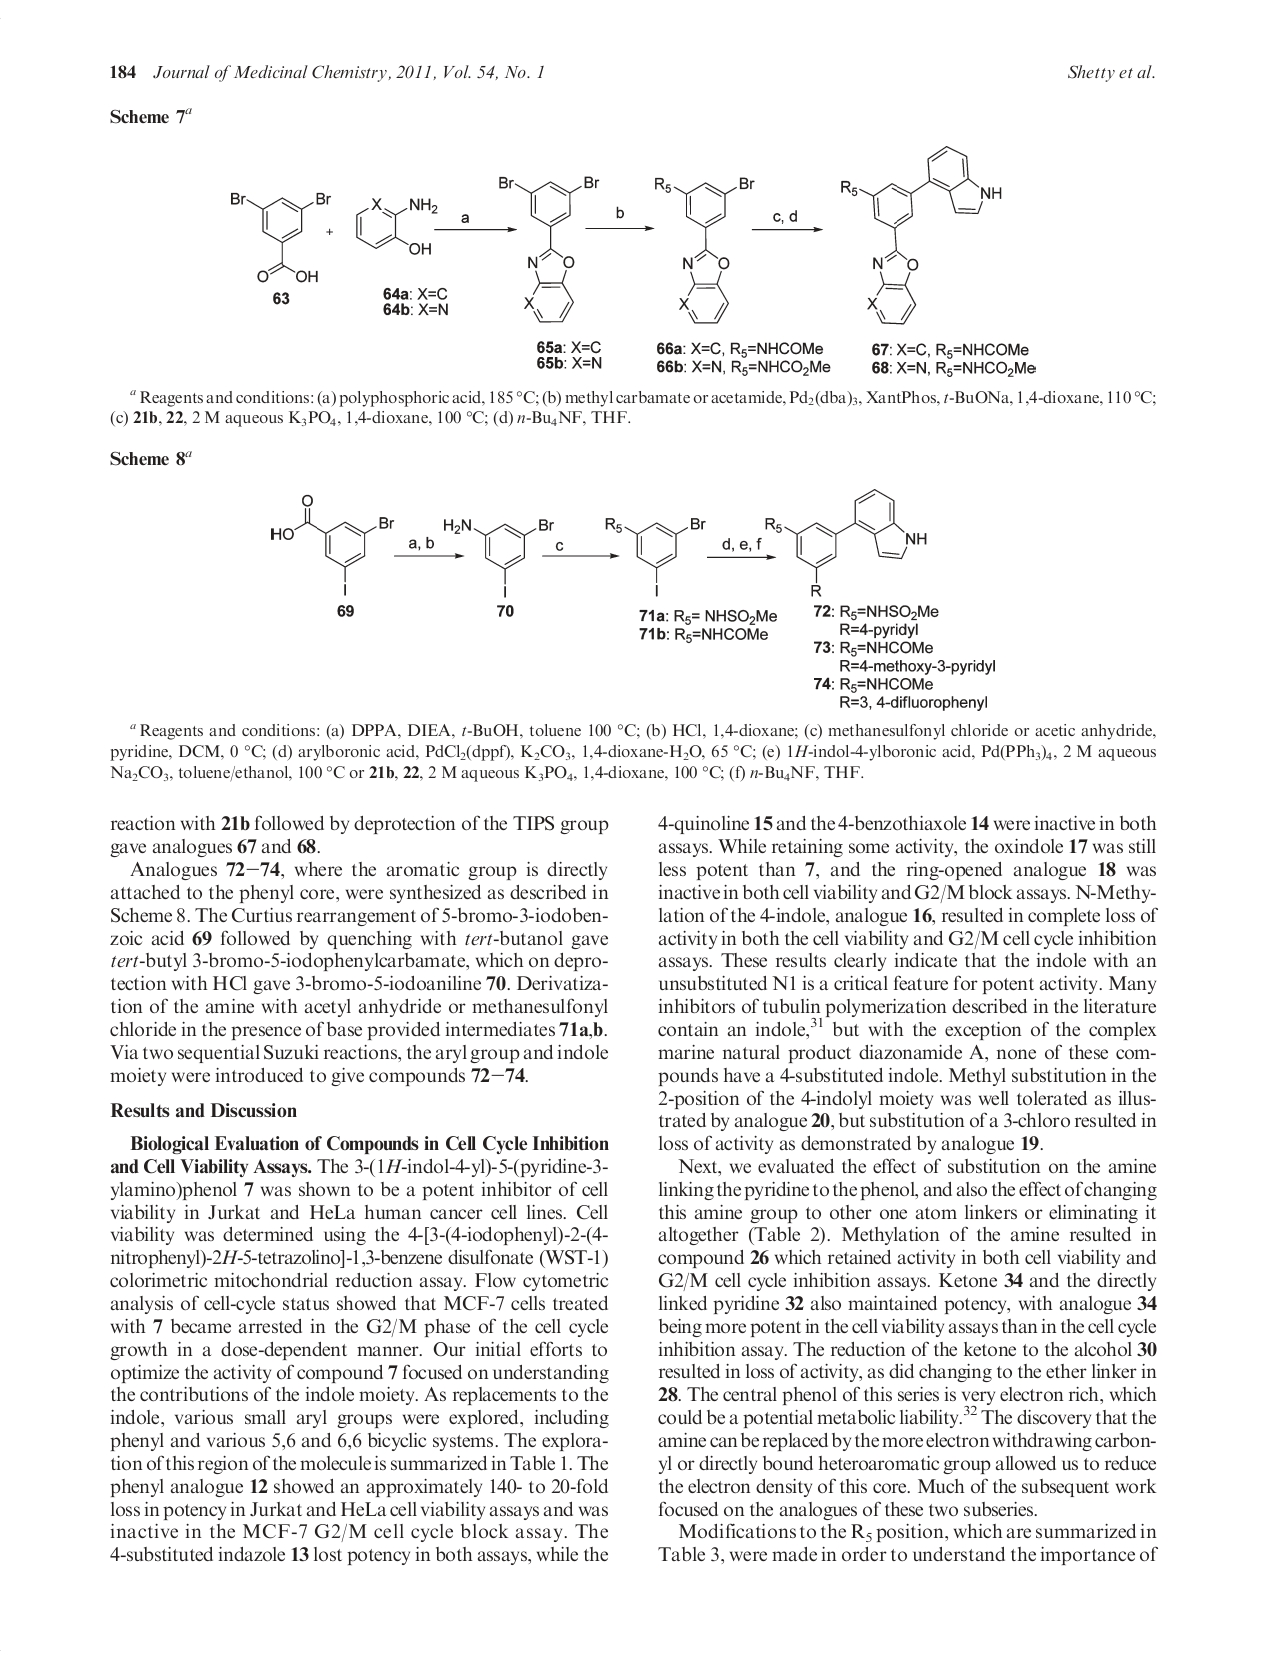exist_molecular: (836, 142, 1005, 326), (765, 487, 932, 598), (650, 172, 754, 328), (493, 172, 598, 326), (267, 492, 395, 598), (226, 188, 331, 285), (440, 512, 557, 598), (602, 512, 706, 597), (352, 193, 440, 255)
